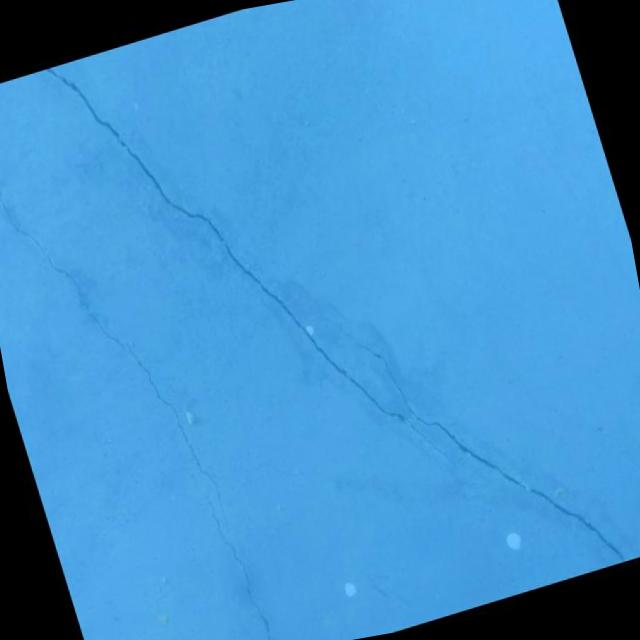crack: (39, 0, 455, 551), (326, 253, 629, 630), (0, 65, 129, 387), (122, 326, 228, 538), (190, 463, 289, 640)
